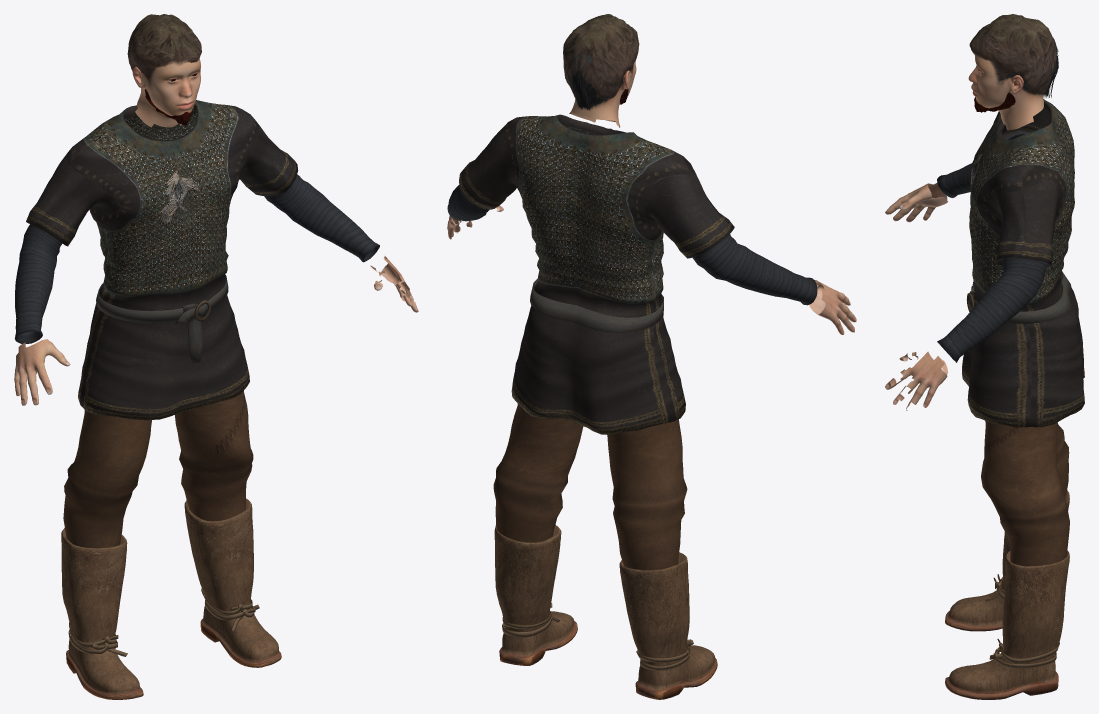
Rendered from Viking.glb.
3 renders of one model, left to right at view 1: azimuth 30°, elevation 25°; view 2: azimuth 150°, elevation 25°; view 3: azimuth 270°, elevation 25°, orthographic. The views are drawn at different scales.
Parts seen in each view (by area): view 1: Human.rehmanpolanski_viking_tunic_export_copy, Human.rehmanpolanski_viking_boots_export_copy, Human.rehmanpolanski_viking_pants_export_copy, Human_export_copy, Human.short02_export_copy; view 2: Human.rehmanpolanski_viking_tunic_export_copy, Human.rehmanpolanski_viking_pants_export_copy, Human.rehmanpolanski_viking_boots_export_copy, Human.short02_export_copy, Human_export_copy, Human.short04_export_copy; view 3: Human.rehmanpolanski_viking_tunic_export_copy, Human.rehmanpolanski_viking_boots_export_copy, Human.rehmanpolanski_viking_pants_export_copy, Human_export_copy, Human.short02_export_copy, Human.short04_export_copy, Human.culturalibre_faun_beard_export_copy.
Boxes of the visible parts, x1,y1,x2,y2 form: Human.rehmanpolanski_viking_tunic_export_copy: (14,100,379,420); Human.rehmanpolanski_viking_boots_export_copy: (61,498,281,699); Human.rehmanpolanski_viking_pants_export_copy: (63,391,253,548); Human_export_copy: (14,59,418,405); Human.short02_export_copy: (127,14,201,81); Human.rehmanpolanski_viking_tunic_export_copy: (447,114,817,434); Human.rehmanpolanski_viking_pants_export_copy: (493,403,687,570); Human.rehmanpolanski_viking_boots_export_copy: (494,525,717,699); Human.short02_export_copy: (563,14,639,99); Human_export_copy: (447,60,856,334); Human.short04_export_copy: (567,34,633,110); Human.rehmanpolanski_viking_tunic_export_copy: (937,99,1084,427); Human.rehmanpolanski_viking_boots_export_copy: (945,490,1069,699); Human.rehmanpolanski_viking_pants_export_copy: (981,420,1069,566); Human_export_copy: (885,54,1043,410); Human.short02_export_copy: (969,14,1056,94); Human.short04_export_copy: (990,32,1058,97); Human.culturalibre_faun_beard_export_copy: (974,92,1015,112).
Bounding box in the file's own units: 1.13 × 1.76 × 0.4988.
Materials: 8 (8 with a texture image).
